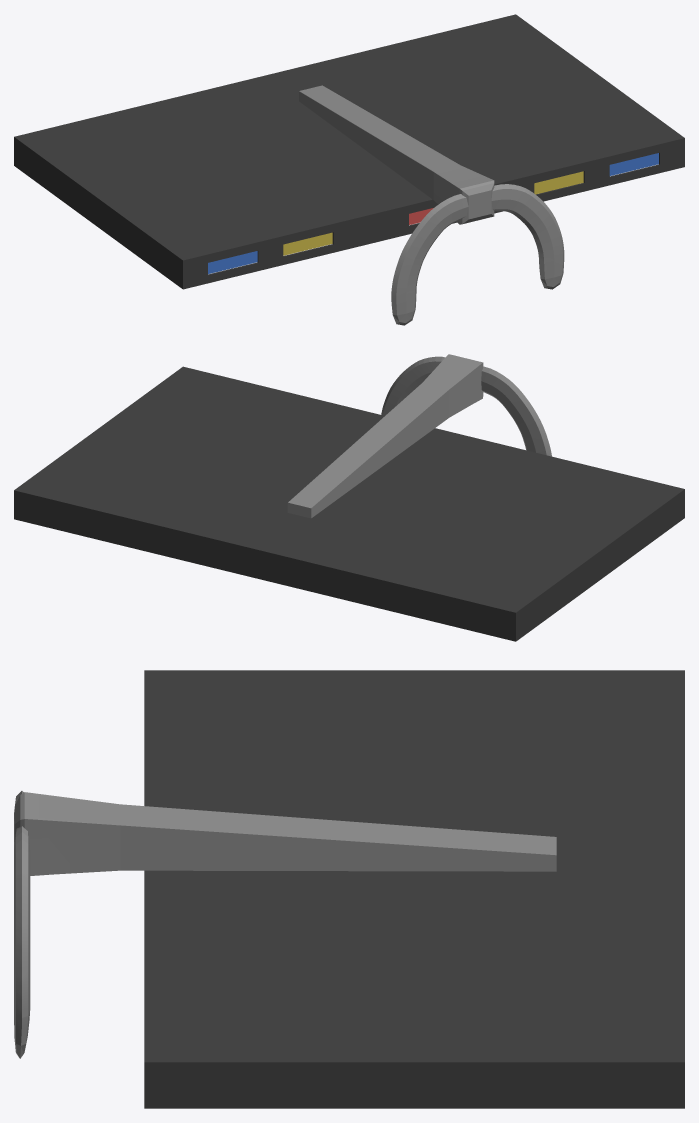
File: entity14826.gltf
3 renders of one model, top to bottom at view 1: azimuth 30°, elevation 25°; view 2: azimuth 150°, elevation 25°; view 3: azimuth 270°, elevation 25°, orthographic. The views are drawn at different scales.
Parts seen in each view (by area): view 1: node_Cube_019; view 2: node_Cube_019; view 3: node_Cube_019.
Part boxes in pixels (x1,y1,x2,y2): node_Cube_019: (14,14,684,325); node_Cube_019: (14,354,684,641); node_Cube_019: (14,670,684,1108).
Bounding box in the file's own units: 59.77 × 13.87 × 43.27.
